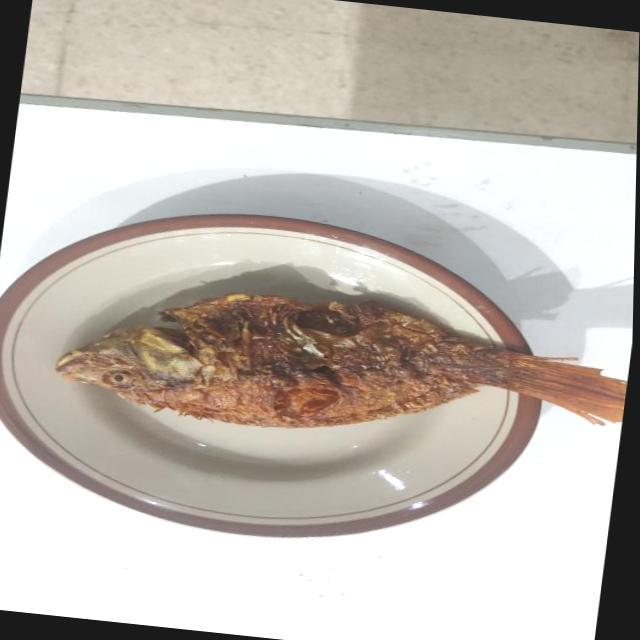ikan_mujair: (56, 294, 626, 428)
